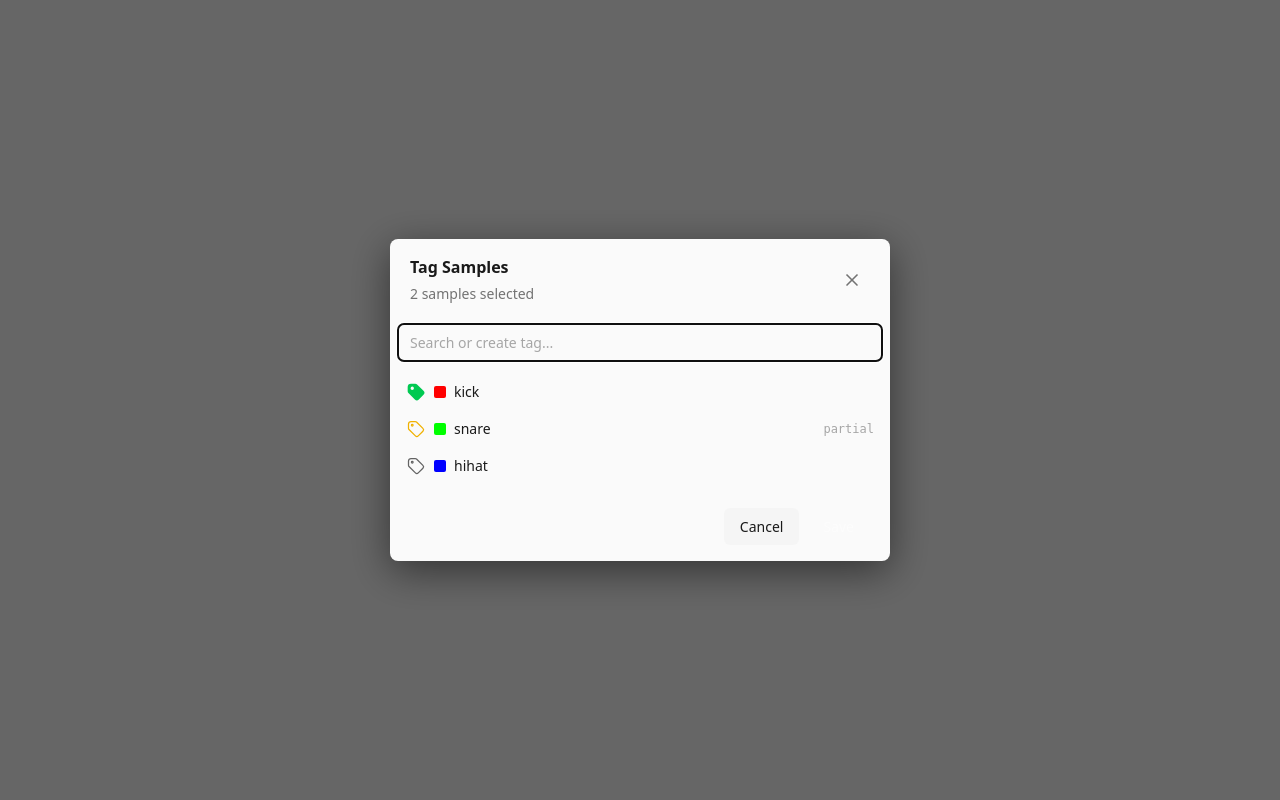
TagPopup › Search functionality › shows "No tags found" message when search has no results
This screenshot has width=1280, height=800.
Type "nonexistent" into the field with placeholder "Search or create tag..." at [640, 342], box [398, 324, 882, 361]
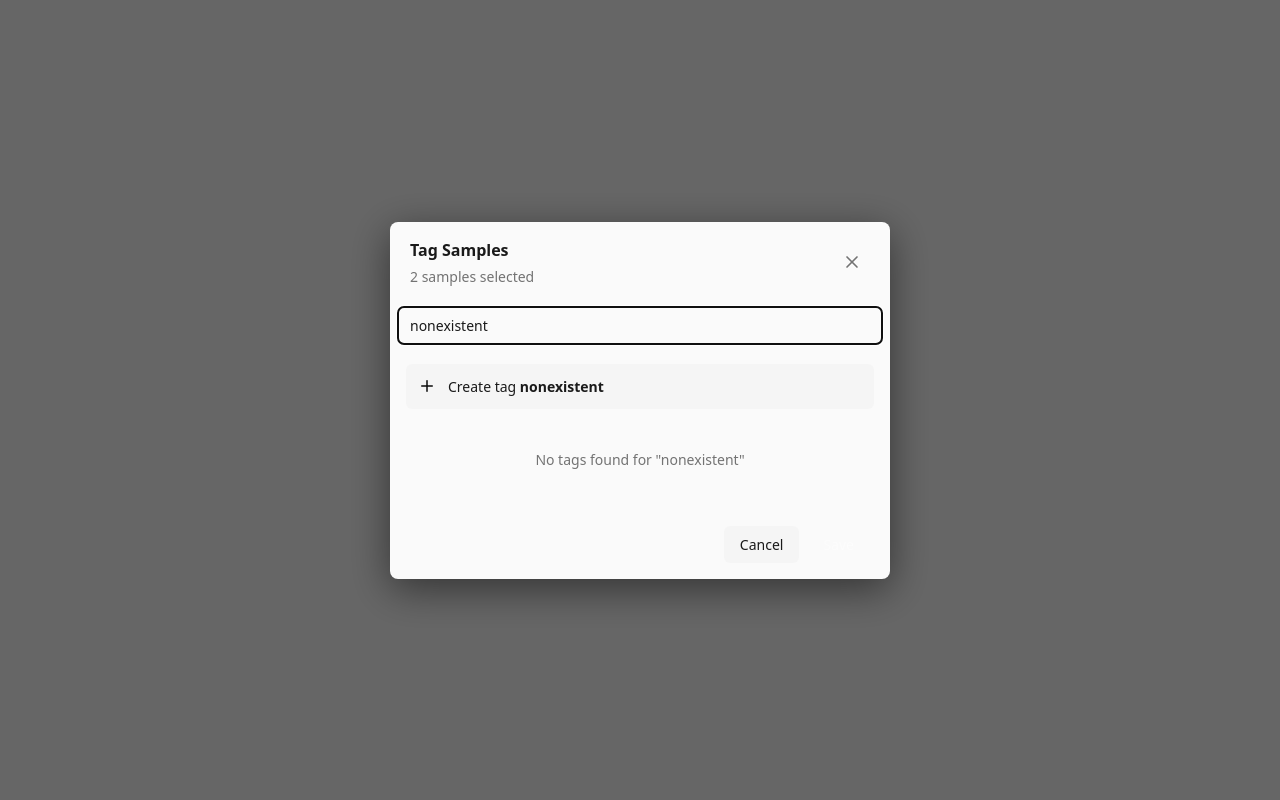
Check: the text "No tags found for \"nonexistent\"" is shown, box [535, 450, 745, 468]
